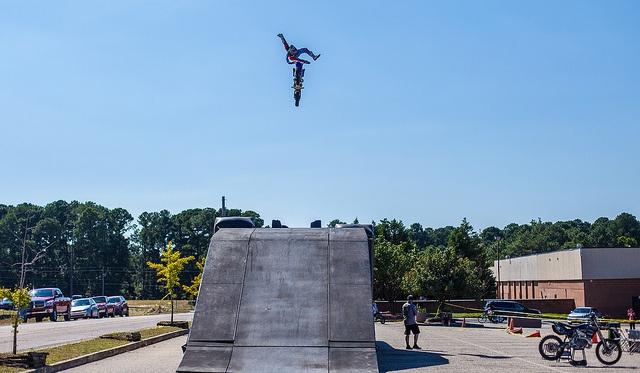non-vehicle: (539, 311, 621, 363), (291, 61, 305, 106), (373, 311, 385, 324)
